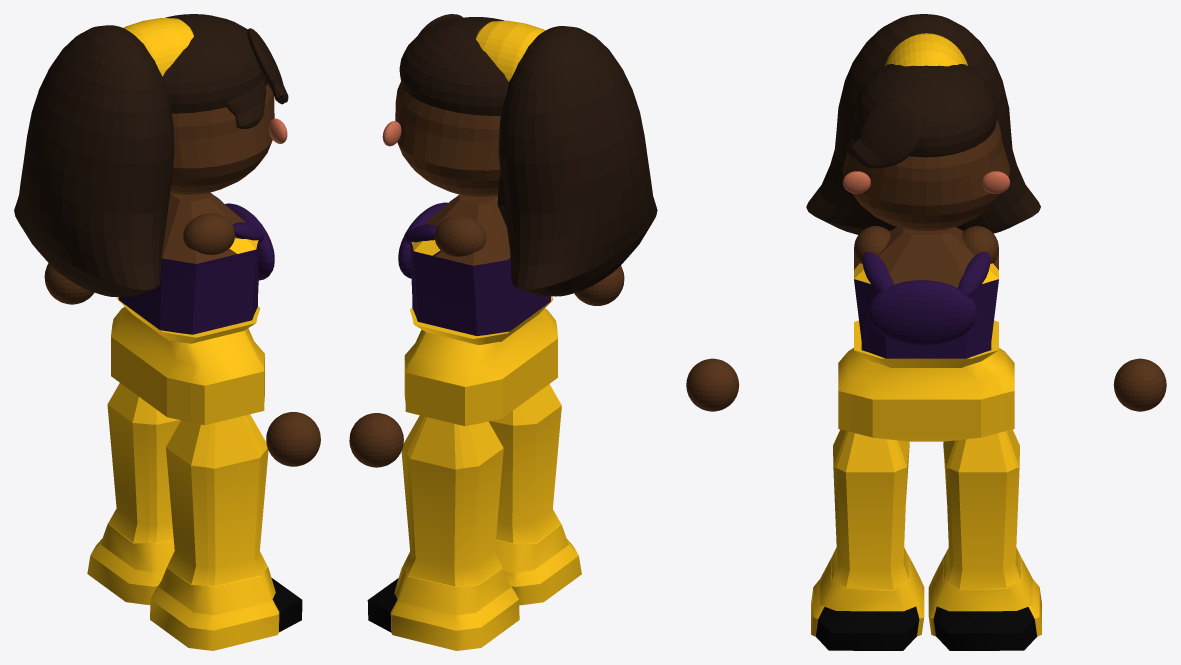
The model's file is test asdrydfhzwas.fbx.
3 renders of one model, left to right at view 1: azimuth 30°, elevation 25°; view 2: azimuth 150°, elevation 25°; view 3: azimuth 270°, elevation 25°, orthographic. The views are drawn at different scales.
Visible parts, largest first — view 1: Cube.003, Sphere.016, Cube.002, Cube.001, Sphere.010, Sphere, Sphere.001, Cube.006, Torus.005, Sphere.005, Sphere.011, Sphere.008 (+4 smaller); view 2: Cube.003, Sphere.016, Cube.002, Cube.001, Sphere, Sphere.010, Sphere.001, Cube.006, Torus.005, Sphere.005, Cube.005, Cube.004 (+2 smaller); view 3: Cube.003, Cube.002, Sphere.016, Sphere, Sphere.010, Cube.004, Sphere.009, Sphere.001, Cube.006, Cube.001, Sphere.008, Torus.005 (+4 smaller).
Part boxes in pixels (x1,y1,x2,y2): Cube.003: (87,383,279,650); Sphere.016: (14,25,174,296); Cube.002: (111,307,264,425); Cube.001: (118,241,259,334); Sphere.010: (162,14,267,113); Sphere: (170,84,274,194); Sphere.001: (44,263,320,466); Cube.006: (161,192,252,263); Torus.005: (123,18,193,76); Sphere.005: (183,213,235,254); Sphere.011: (226,80,265,128); Sphere.008: (247,28,288,104); Cube.003: (390,384,581,650); Sphere.016: (497,26,657,296); Cube.002: (404,308,557,426); Cube.001: (410,243,550,335); Sphere: (395,82,500,196); Sphere.010: (399,17,508,115); Sphere.001: (349,265,624,467); Cube.006: (423,194,510,265); Torus.005: (476,20,545,81); Sphere.005: (434,215,486,256); Cube.005: (410,296,553,345); Cube.004: (367,578,398,632); Cube.003: (811,429,1041,636); Cube.002: (838,348,1014,441); Sphere.016: (806,14,1040,234); Sphere: (842,120,1010,231); Sphere.010: (855,64,997,157); Cube.004: (815,606,1037,650); Sphere.009: (867,280,977,345); Sphere.001: (686,358,1166,411); Cube.006: (854,227,998,287); Cube.001: (854,263,998,358); Sphere.008: (851,98,921,168); Torus.005: (885,33,967,66).
Bounding box in the file's own units: 295 × 731 × 561.
